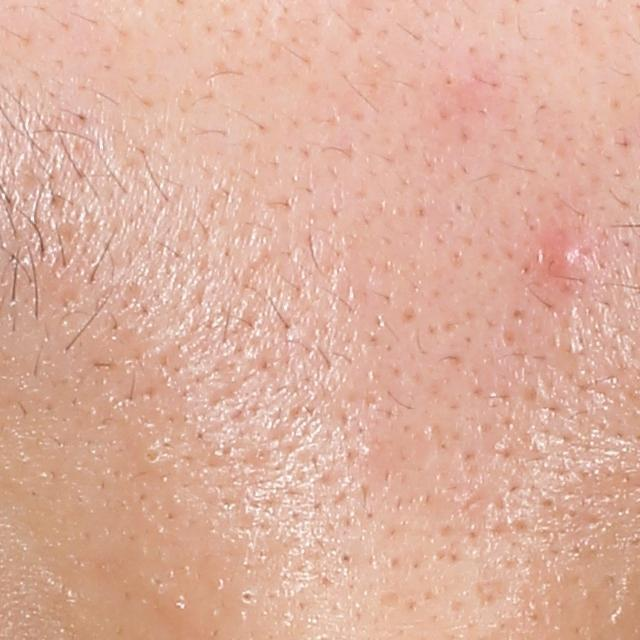comedo: (136, 443, 169, 475), (438, 69, 461, 90), (237, 588, 256, 608)
papule: (532, 226, 595, 290)
